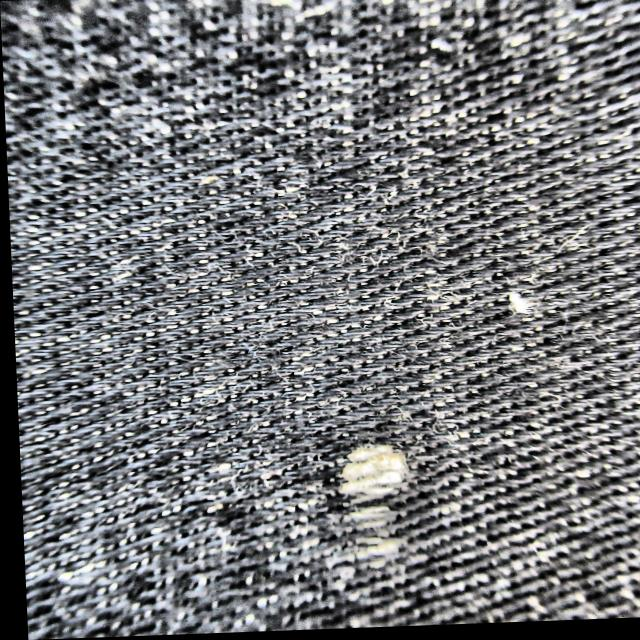Hole: (336, 446, 406, 559), (505, 290, 538, 329)
